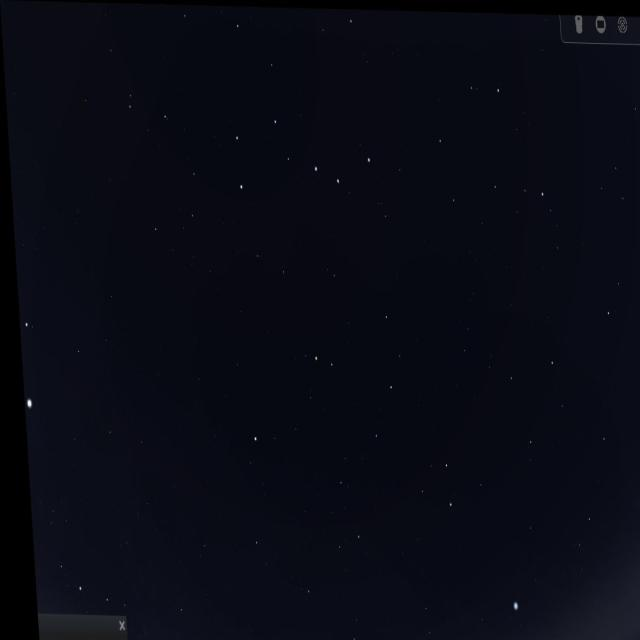ursa_major: (220, 103, 378, 219)
